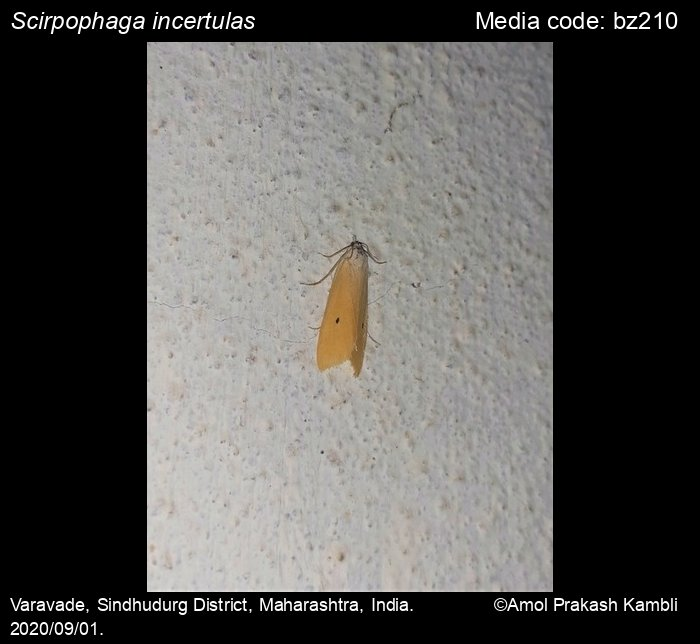Crambidae: (299, 233, 398, 383)
